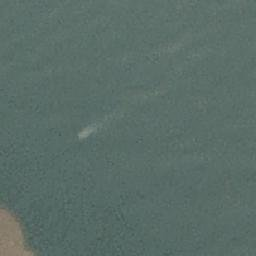debris: (1, 203, 38, 256)
